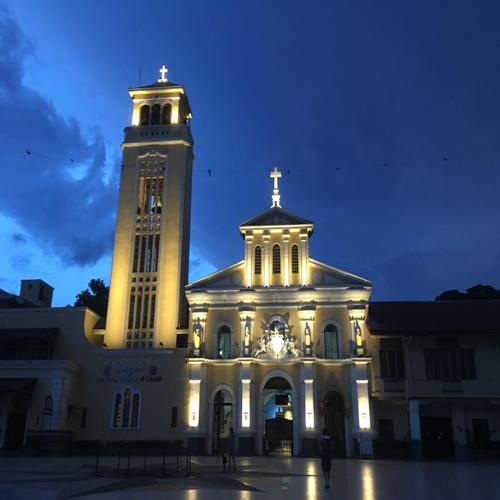Manaoag Church: (98, 58, 373, 472)
